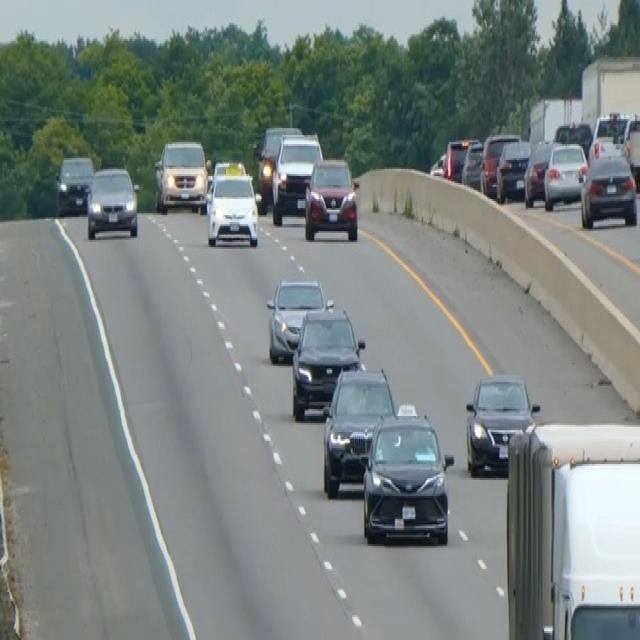car: (321, 364, 397, 498), (291, 302, 365, 420), (464, 372, 539, 476), (265, 274, 328, 362), (303, 154, 359, 242), (270, 132, 323, 224), (580, 151, 637, 228), (154, 137, 209, 213), (206, 169, 259, 247), (254, 123, 302, 208), (85, 164, 138, 238), (542, 140, 588, 210), (479, 132, 520, 196), (523, 137, 560, 206), (55, 153, 94, 213), (495, 138, 531, 202), (589, 110, 628, 160), (554, 119, 592, 158), (443, 135, 473, 181), (208, 157, 246, 190), (621, 112, 639, 181), (461, 138, 484, 188), (428, 149, 446, 178)
lorry: (504, 418, 639, 638)
minivan: (360, 402, 454, 548)
